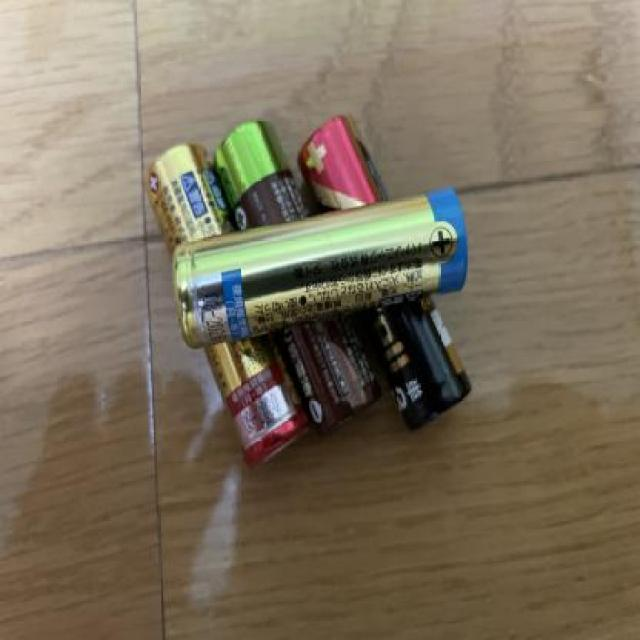hazardous waste: (144, 137, 312, 471), (213, 115, 384, 437), (302, 112, 464, 425), (170, 186, 476, 346)
